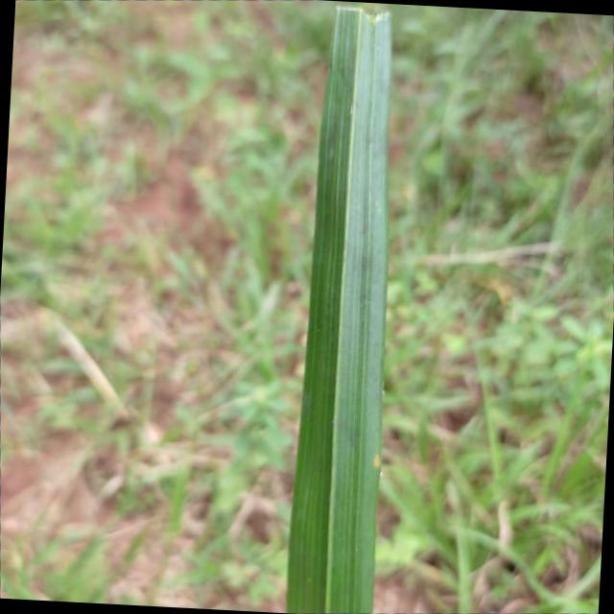Boron: (284, 3, 389, 614)
